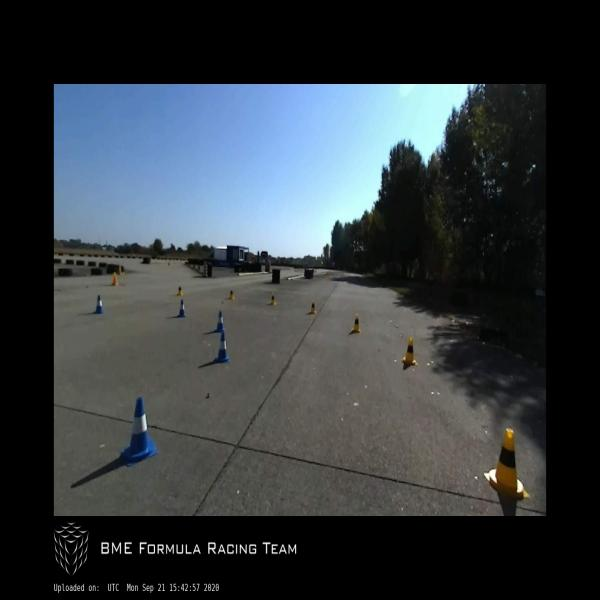blue_cone: (120, 396, 158, 466), (214, 332, 231, 363), (214, 311, 226, 332), (93, 296, 104, 314), (177, 299, 186, 318)
yellow_cone: (483, 428, 529, 500), (401, 336, 417, 366), (352, 314, 360, 332), (309, 299, 317, 314), (177, 284, 184, 296), (228, 288, 234, 300), (270, 293, 276, 305)
